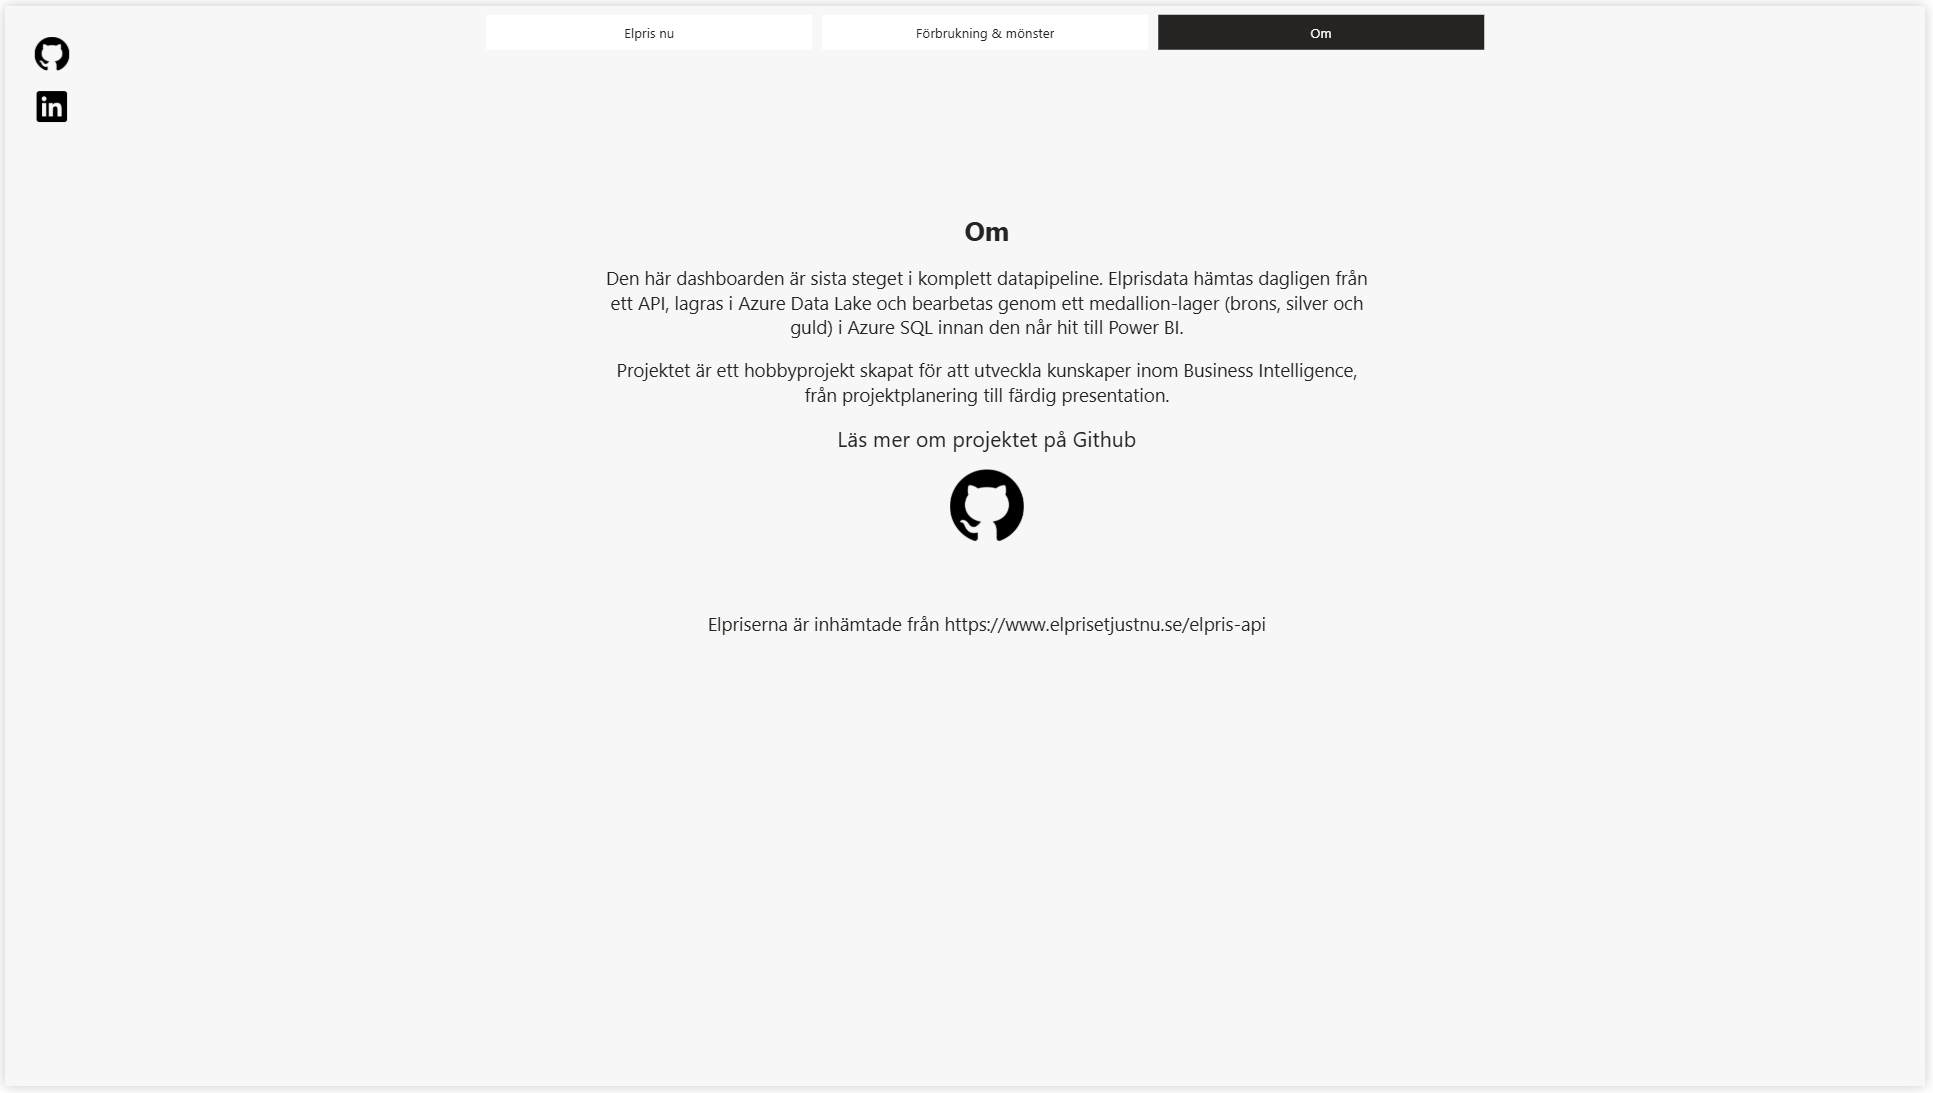

The page's visual inventory and layout, read from the dashboard file:
{"tool":"powerbi","page":{"name":"Om","canvas":[1920,1080],"ordinal":2},"visuals":[{"type":"shape","box":[0,0,1919.9,1080],"z":0},{"type":"image","title":"github lightmode","box":[24.9,25.8,44.4,43.2],"z":2000},{"type":"image","title":"in lightmode","box":[21.6,75.1,51.5,51],"z":3000},{"type":"pageNavigator","box":[481.4,8.6,1000,35.7],"z":4000},{"type":"textbox","box":[589,201.2,786.2,469.6],"z":5000},{"type":"image","title":"github lightmode","box":[939.1,458.8,85.9,81.8],"z":6000}]}

Visuals, with their boxes in screenshot pixels (x1, y1, x2, y2), scaled from the page's 1920x1080 canvas onto the 1933x1093 screenshot:
shape: (0, 0, 1932, 1092)
"github lightmode" image: (25, 26, 70, 70)
"in lightmode" image: (22, 76, 74, 128)
pageNavigator: (485, 9, 1491, 45)
textbox: (593, 204, 1385, 679)
"github lightmode" image: (945, 464, 1032, 547)
